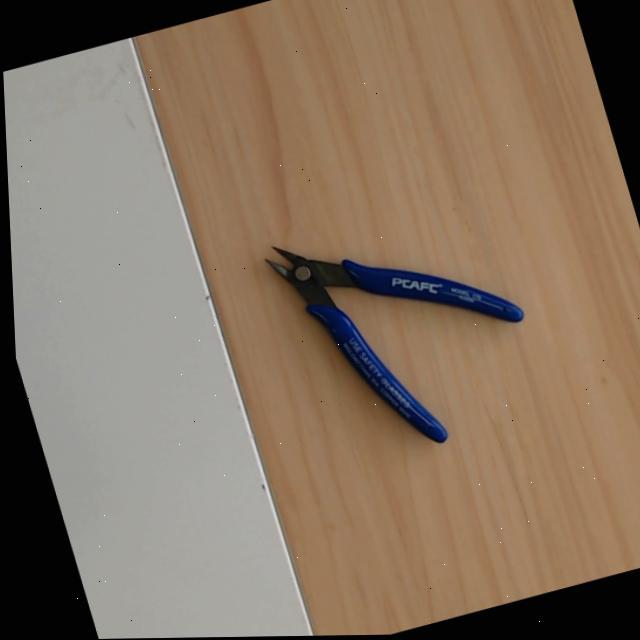Tang-Potong-Biru: (228, 173, 528, 445)
